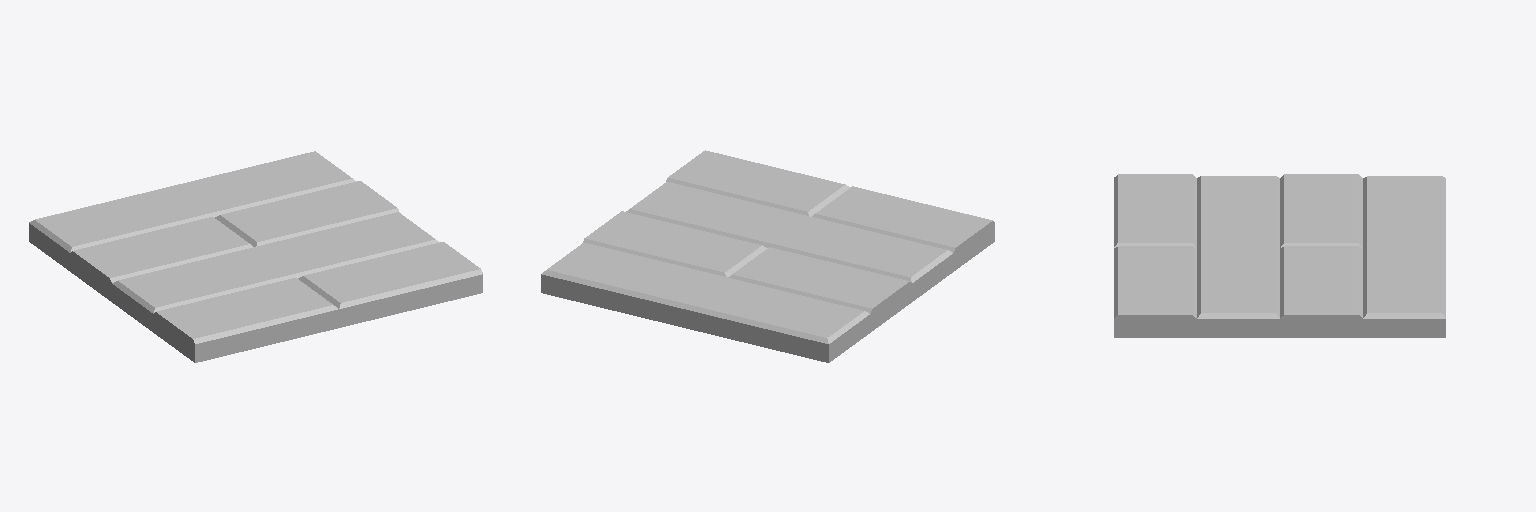
File: floor_wood_small_dark.obj
3 views of the same model, side by side, from view 1: azimuth 30°, elevation 25°; view 2: azimuth 150°, elevation 25°; view 3: azimuth 270°, elevation 25° (orthographic).
Visible parts, largest first — view 1: floor_wood_small_dark_Cube.15624; view 2: floor_wood_small_dark_Cube.15624; view 3: floor_wood_small_dark_Cube.15624.
Boxes of the visible parts, x1=… form: floor_wood_small_dark_Cube.15624: x1=29, y1=151, x2=482, y2=362; floor_wood_small_dark_Cube.15624: x1=541, y1=150, x2=994, y2=362; floor_wood_small_dark_Cube.15624: x1=1114, y1=174, x2=1445, y2=337.
Size of the model in its own units: 2 by 0.15 by 2.